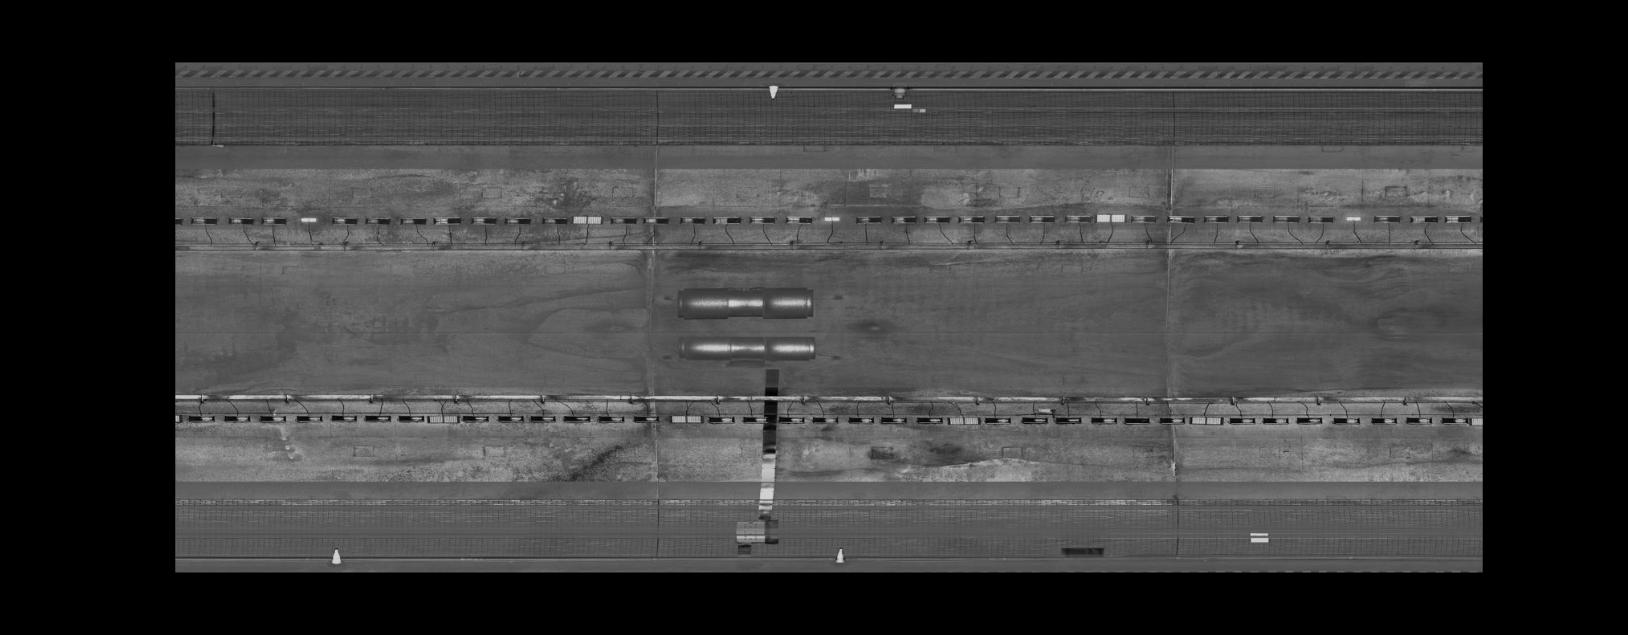light: (1061, 211, 1094, 225), (1187, 415, 1225, 427), (425, 413, 462, 425), (667, 413, 703, 425), (945, 415, 981, 427), (571, 214, 604, 227), (429, 215, 463, 227), (1270, 212, 1301, 225), (955, 213, 988, 225), (468, 214, 498, 227), (607, 214, 637, 227), (1025, 213, 1057, 225), (1094, 212, 1127, 224), (1165, 213, 1197, 225), (1407, 214, 1441, 225), (188, 214, 219, 226), (398, 215, 429, 227), (501, 215, 533, 227), (539, 215, 570, 227), (992, 213, 1023, 225), (877, 414, 908, 426), (710, 215, 743, 226), (184, 412, 217, 423), (1330, 415, 1363, 426), (259, 215, 289, 227), (362, 215, 392, 227), (641, 214, 671, 226), (677, 214, 707, 226), (1234, 213, 1265, 225), (913, 413, 943, 425), (1053, 414, 1083, 426), (328, 215, 360, 226), (1442, 214, 1474, 225), (1259, 415, 1292, 426), (1368, 415, 1401, 426), (225, 215, 256, 226), (921, 214, 952, 225), (739, 414, 770, 425), (775, 415, 806, 426), (1017, 415, 1049, 426), (1121, 415, 1152, 426), (1156, 414, 1187, 425), (1292, 415, 1325, 425), (1403, 415, 1436, 425), (747, 214, 777, 225), (1129, 213, 1159, 224), (1200, 213, 1230, 224), (396, 412, 426, 423), (982, 415, 1012, 426), (1227, 416, 1257, 427), (1371, 214, 1403, 224), (889, 215, 918, 226), (1306, 214, 1335, 225), (293, 413, 324, 423), (329, 413, 360, 423), (362, 413, 394, 423), (1088, 415, 1119, 425), (1438, 415, 1469, 425), (784, 214, 814, 224), (496, 413, 526, 423), (632, 414, 662, 424), (810, 415, 840, 425), (845, 415, 875, 425), (706, 415, 735, 425), (220, 414, 252, 423), (560, 414, 592, 423), (594, 414, 626, 423), (853, 215, 885, 224), (257, 414, 289, 423), (459, 414, 490, 423), (528, 414, 557, 423), (296, 215, 319, 224), (1342, 215, 1365, 223), (822, 215, 842, 223), (1469, 416, 1482, 426), (177, 214, 184, 227), (177, 411, 183, 425)
